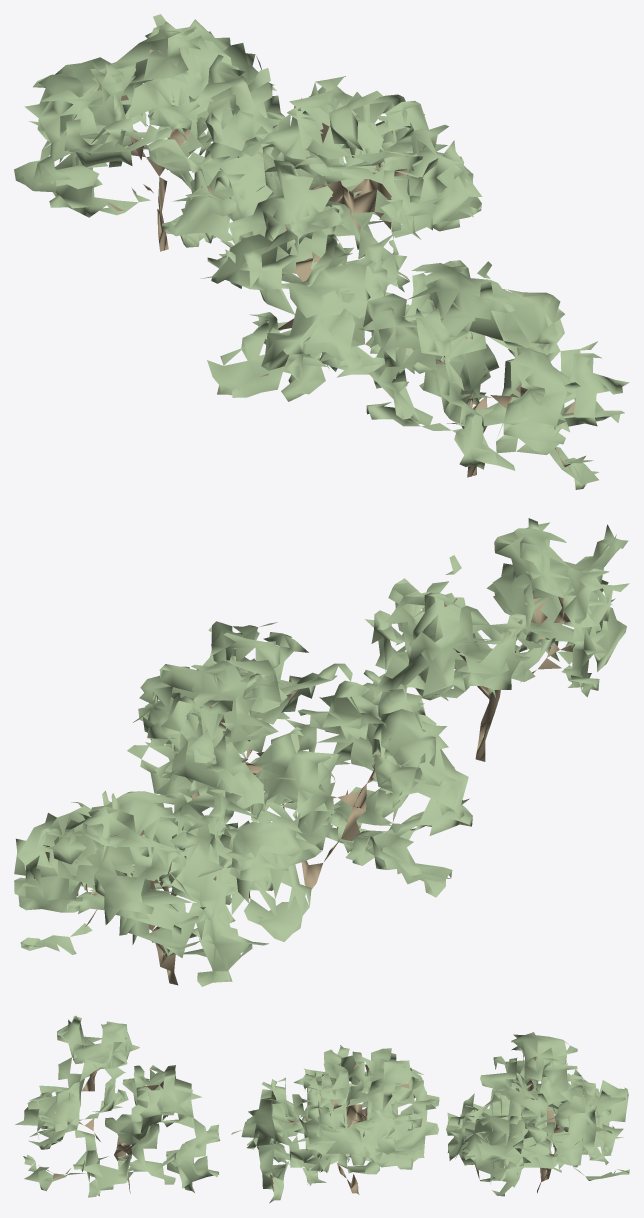
File: oak.glb
3 renders of one model, top to bottom at view 1: azimuth 30°, elevation 25°; view 2: azimuth 150°, elevation 25°; view 3: azimuth 270°, elevation 25°, orthographic. The views are drawn at different scales.
Size of the model in its own units: 129 by 101 by 353.
